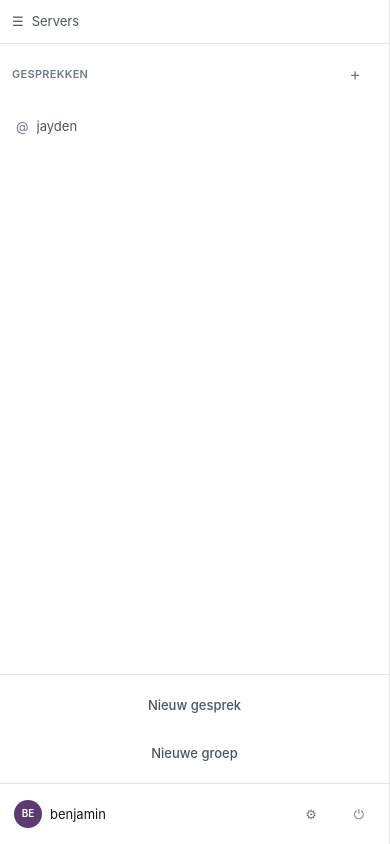
Test case: C — one column at a time on a phone › shows the channel list of a server instead of jumping into its first channel
The width and height of the screenshot is (390, 844).
Expected: the heading "Gesprekken" is shown, x1=12 y1=67 x2=88 y2=81
# The rail is a drawer here, so it has to be opened first.
What coordinates should you click on to do the following:
click the button "☰ Servers"
I would click on:
 (55, 21)
Its box is x1=0 y1=0 x2=389 y2=44.
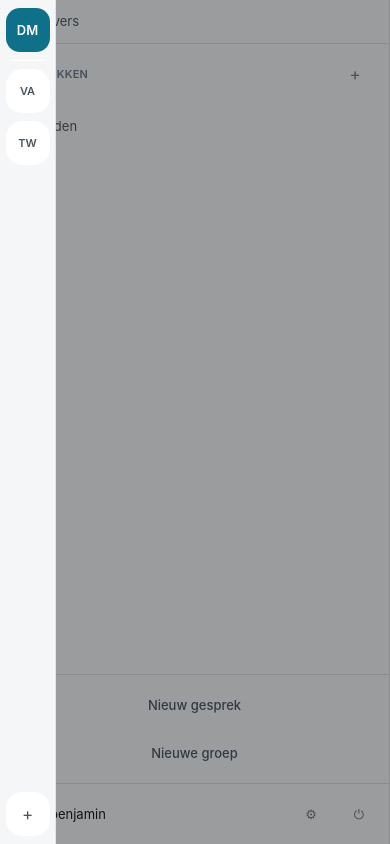
What coordinates should you click on to do the following:
click the button titled "Vault HQ"
I would click on:
 (28, 91)
Its box is x1=6 y1=69 x2=50 y2=113.
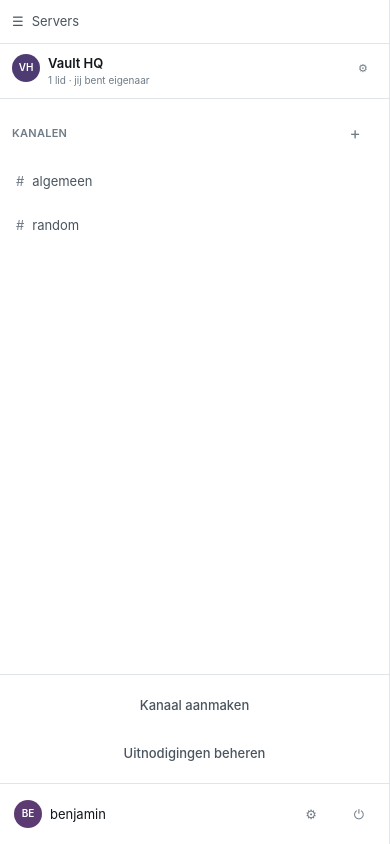
Now the heading "Kanalen" is shown, box x1=12 y1=126 x2=67 y2=140
